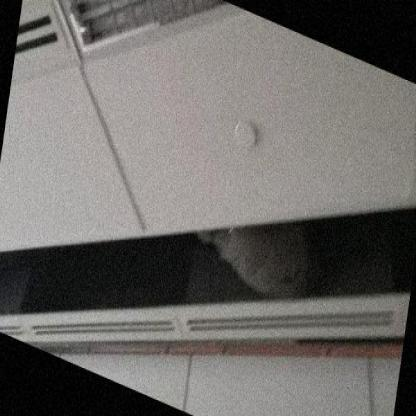light_off: (38, 0, 258, 128)
